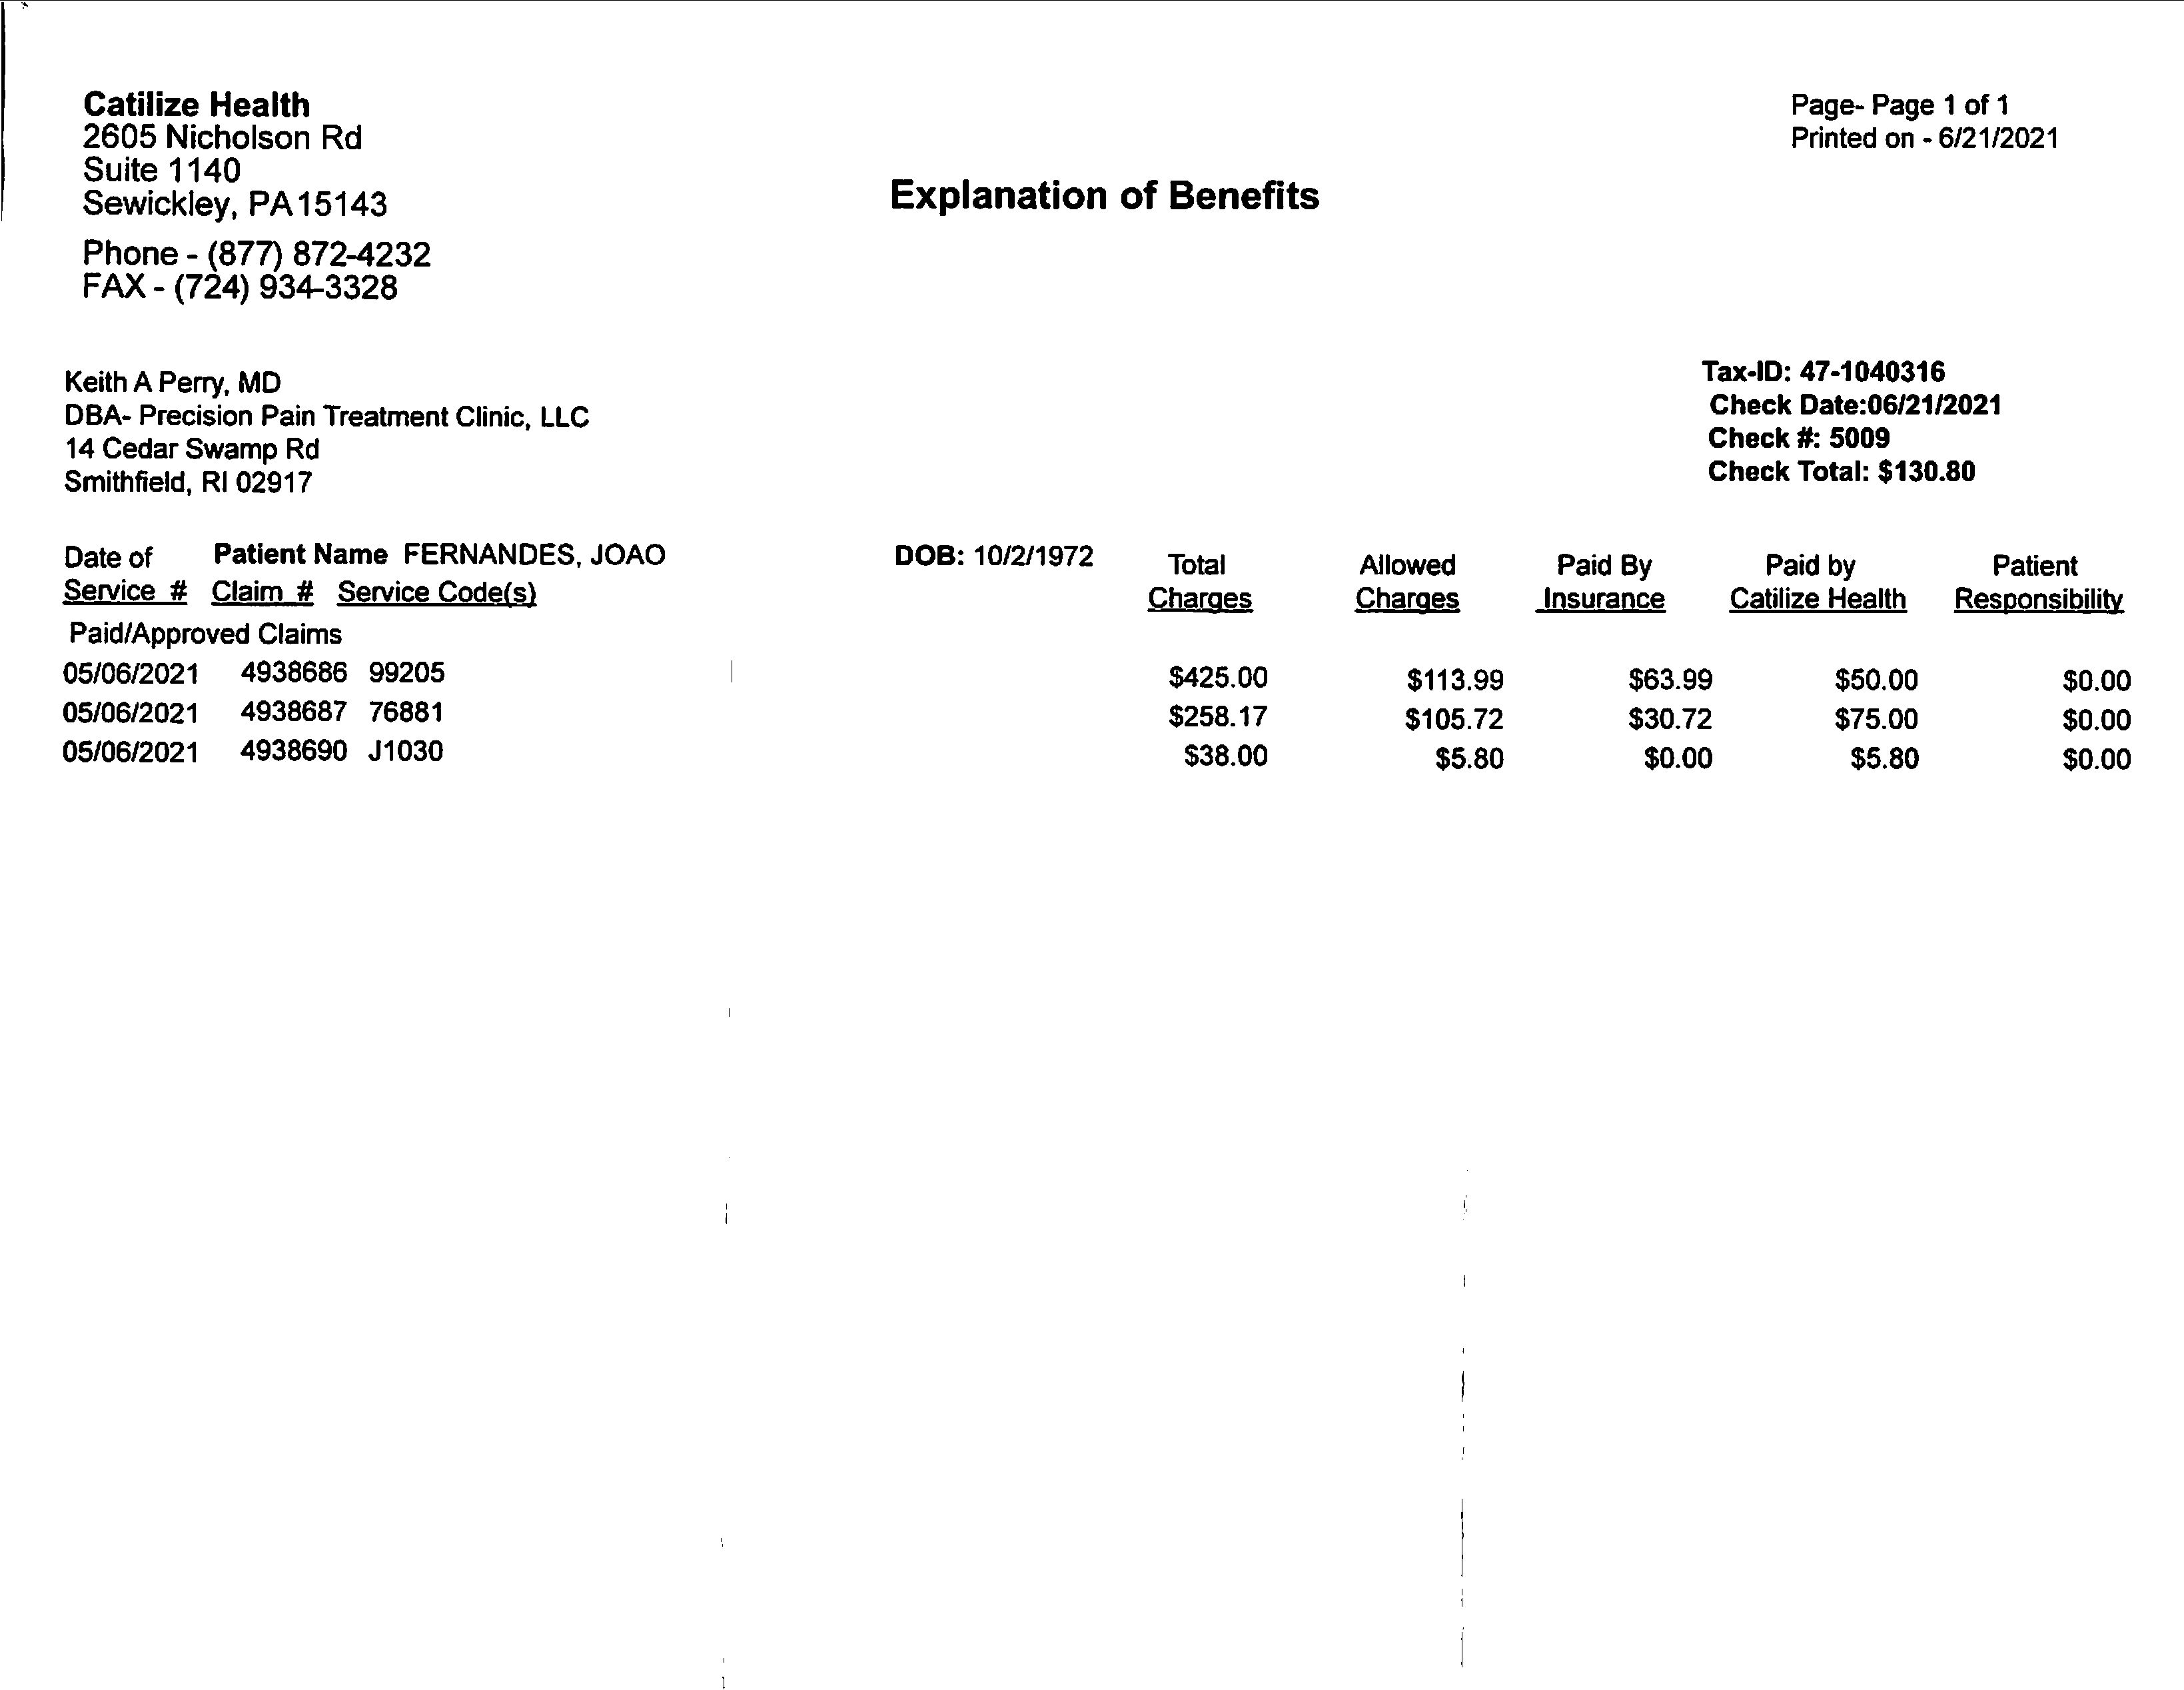data: (41, 349, 636, 511), (1681, 339, 2016, 504)
table: (46, 532, 2149, 796)
